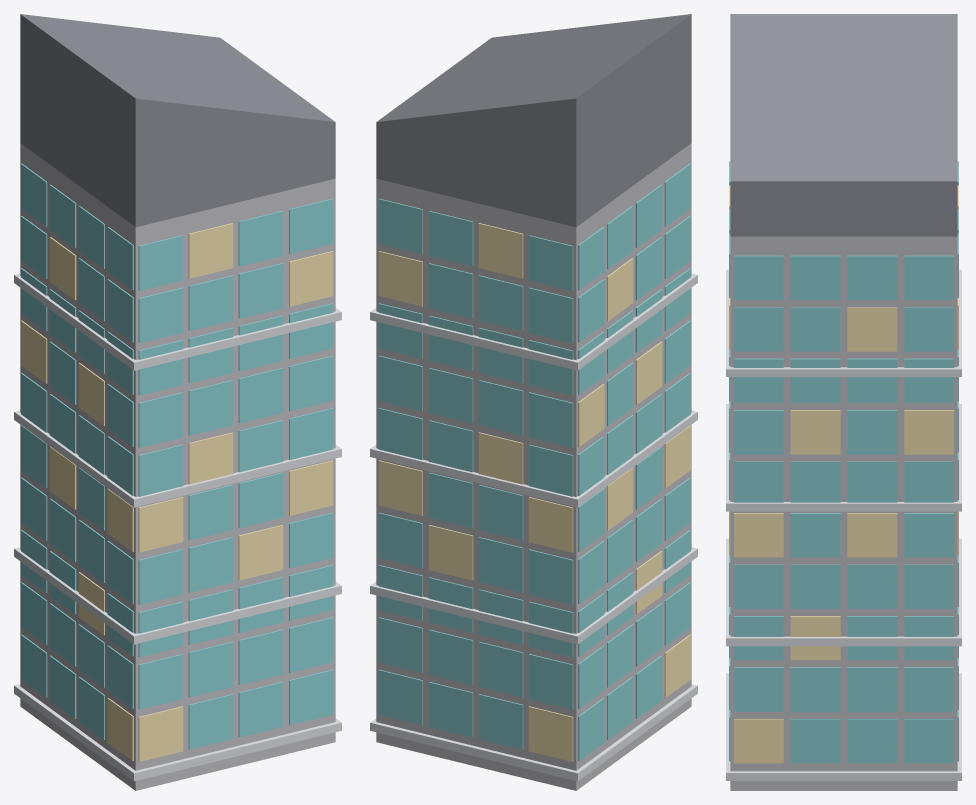
File: city__tower2.fbx
3 views of the same model, side by side, from view 1: azimuth 30°, elevation 25°; view 2: azimuth 150°, elevation 25°; view 3: azimuth 270°, elevation 25° (orthographic).
Parts seen in each view (by area): view 1: city__tower2; view 2: city__tower2; view 3: city__tower2.
Boxes of the visible parts, box(x1,y1,x2,y2) form: city__tower2: box(14, 14, 341, 790); city__tower2: box(370, 14, 697, 790); city__tower2: box(726, 14, 961, 790).
Bounding box in the file's own units: 5.4 × 17.2 × 5.4.
